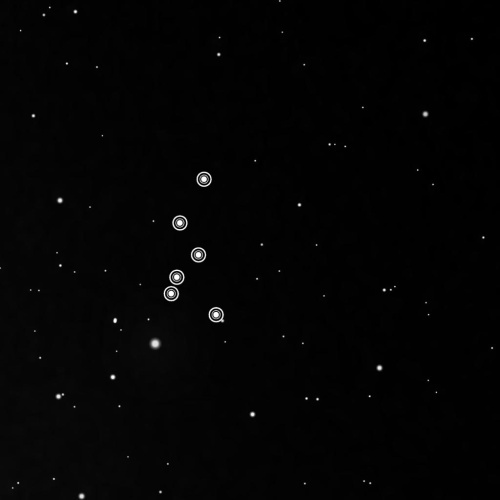cassiopeia: (158, 167, 227, 328)
